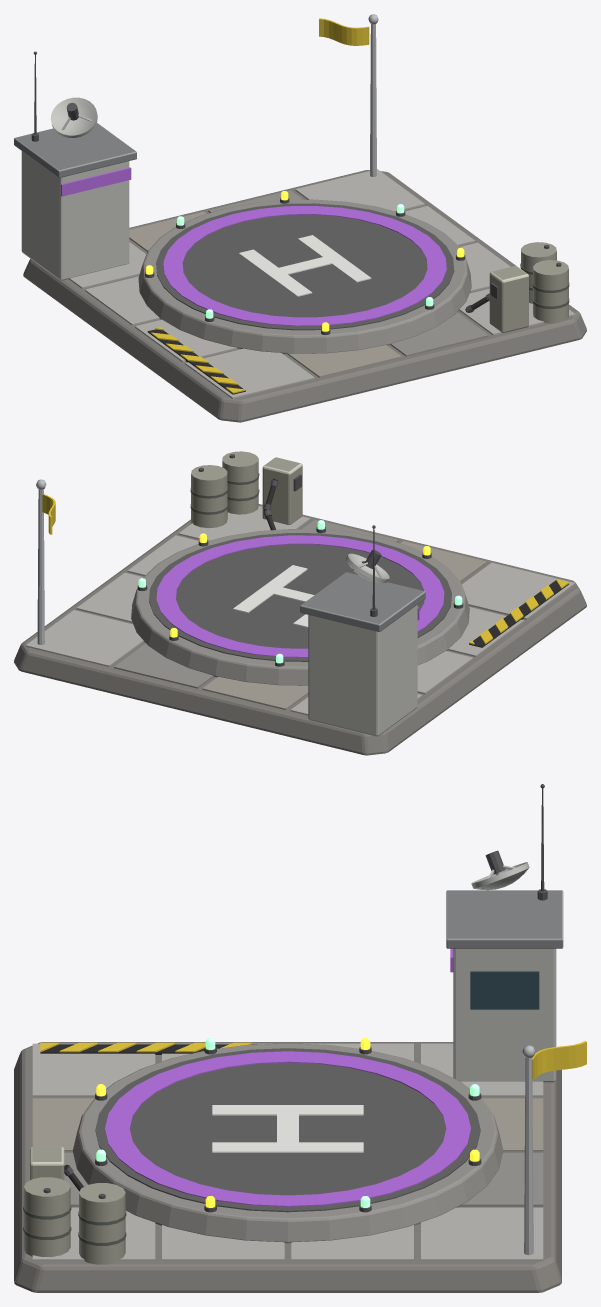
Rendered from helipad_purple.glb.
3 renders of one model, top to bottom at view 1: azimuth 30°, elevation 25°; view 2: azimuth 150°, elevation 25°; view 3: azimuth 270°, elevation 25°, orthographic. The views are drawn at different scales.
Visible parts, largest first — view 1: Body; view 2: Body; view 3: Body.
Boxes of the visible parts, x1=… form: Body: x1=14, y1=14, x2=586, y2=422; Body: x1=14, y1=451, x2=586, y2=755; Body: x1=14, y1=784, x2=586, y2=1292.
Size of the model in its own units: 3.99 by 2.3 by 4.16.
Materials: 1 (1 with a texture image).
